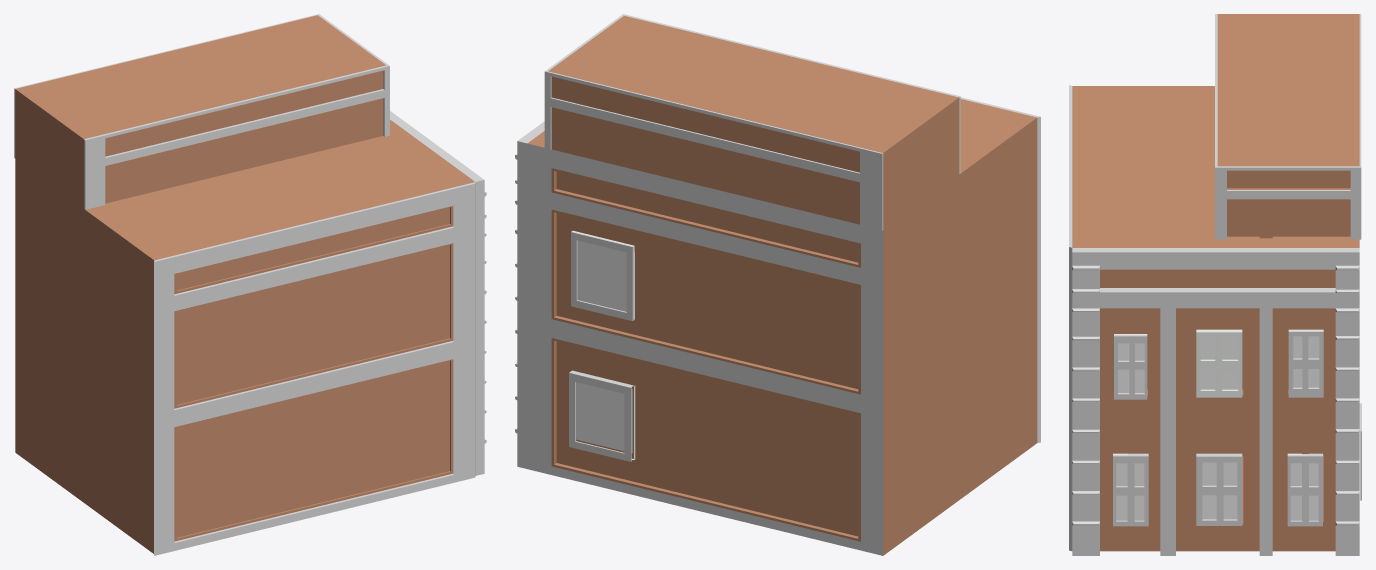
Rendered from orangehouse.glb.
The picture shows the model from 3 angles, left to right: view 1: azimuth 30°, elevation 25°; view 2: azimuth 150°, elevation 25°; view 3: azimuth 270°, elevation 25°; orthographic projection. The views are drawn at different scales.
Visible parts, largest first — view 1: 建物1.001, 白の枠.001, 建物1 白.001; view 2: 建物1.001, 建物1.側面.001, 白の枠.001, 建物1 白.001, 側面 窓上.001, 側面 窓下.001, 側面 窓枠下.001, 側面 窓枠上.001; view 3: 建物1.001, 建物1 白.001, 白の枠.001, 真ん中下 窓枠.001, 窓枠.013, 左下 窓枠.001, 右上 窓枠.003, 右下 窓枠.001, 真ん中上 窓.003, 真ん中下 窓.001, 右上 窓枠.002, 左下 窓.001 (+3 smaller).
Part boxes in pixels (box(x1,y1,x2,y2)): 建物1.001: box(15, 15, 474, 553); 白の枠.001: box(14, 14, 475, 555); 建物1 白.001: box(390, 111, 486, 475); 建物1.001: box(527, 16, 1037, 555); 建物1.側面.001: box(527, 143, 883, 555); 白の枠.001: box(544, 14, 1040, 442); 建物1 白.001: box(515, 121, 544, 468); 側面 窓上.001: box(572, 230, 634, 319); 側面 窓下.001: box(576, 382, 635, 459); 側面 窓枠下.001: box(569, 370, 633, 461); 側面 窓枠上.001: box(571, 231, 633, 321); 建物1.001: box(1072, 14, 1359, 551); 建物1 白.001: box(1072, 248, 1359, 555); 白の枠.001: box(1069, 14, 1361, 551); 真ん中下 窓枠.001: box(1196, 453, 1242, 525); 窓枠.013: box(1196, 331, 1242, 397); 左下 窓枠.001: box(1113, 453, 1148, 526); 右上 窓枠.003: box(1288, 330, 1323, 397); 右下 窓枠.001: box(1287, 453, 1322, 526); 真ん中上 窓.003: box(1196, 329, 1242, 389); 真ん中下 窓.001: box(1202, 462, 1237, 519); 右上 窓枠.002: box(1114, 335, 1147, 399); 左下 窓.001: box(1113, 453, 1144, 520).
Bounding box in the file's own units: 57.04 × 59.22 × 41.86.
